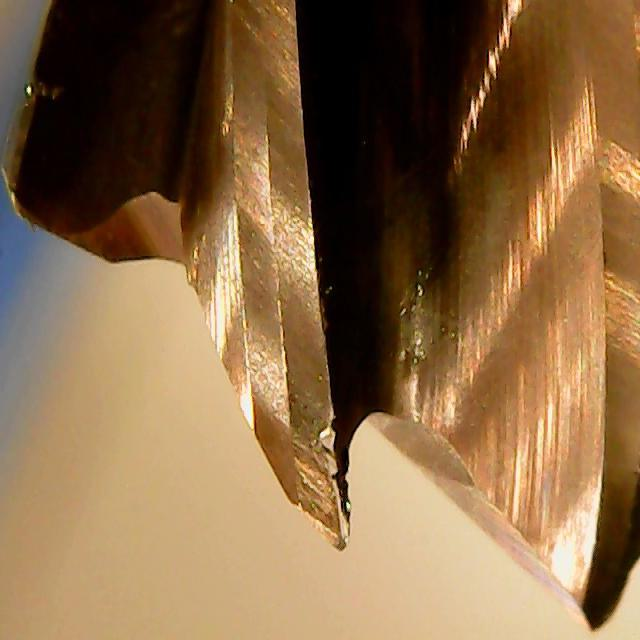Tool-wear-class-1: (228, 305, 372, 557)
